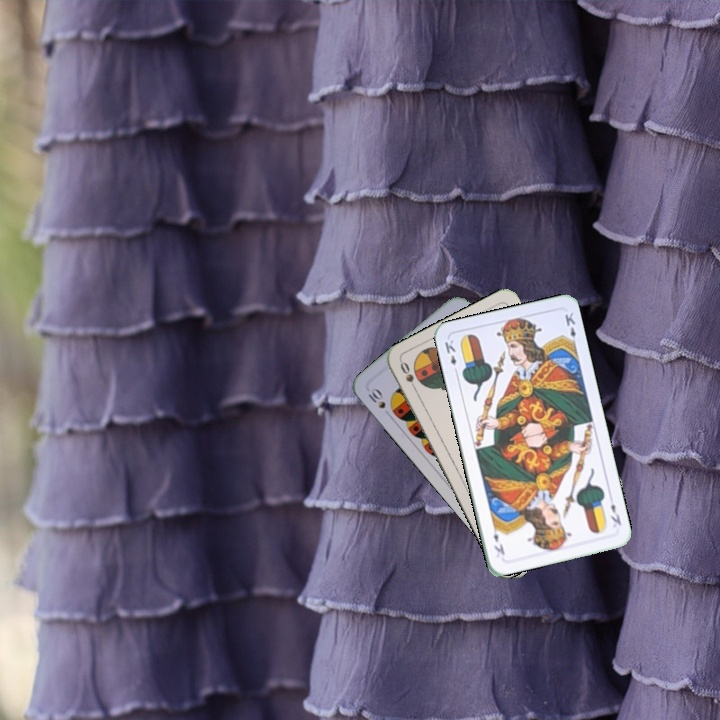EK: (441, 335, 460, 376), (606, 492, 624, 528)
S10: (364, 383, 388, 411)
SO: (396, 357, 420, 396)
